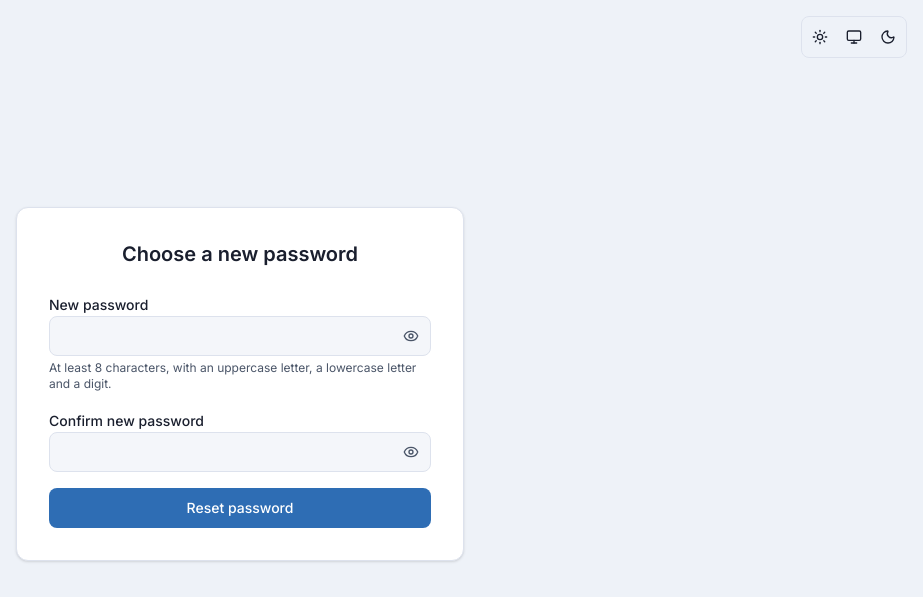
ResetPasswordPage (FR-BB115 AC-7) › blocks submit and shows an error when passwords do not match
This screenshot has width=923, height=597.
Type "Str0ngPass" into the password field labelled "New password" at (240, 336), box [49, 316, 431, 356]
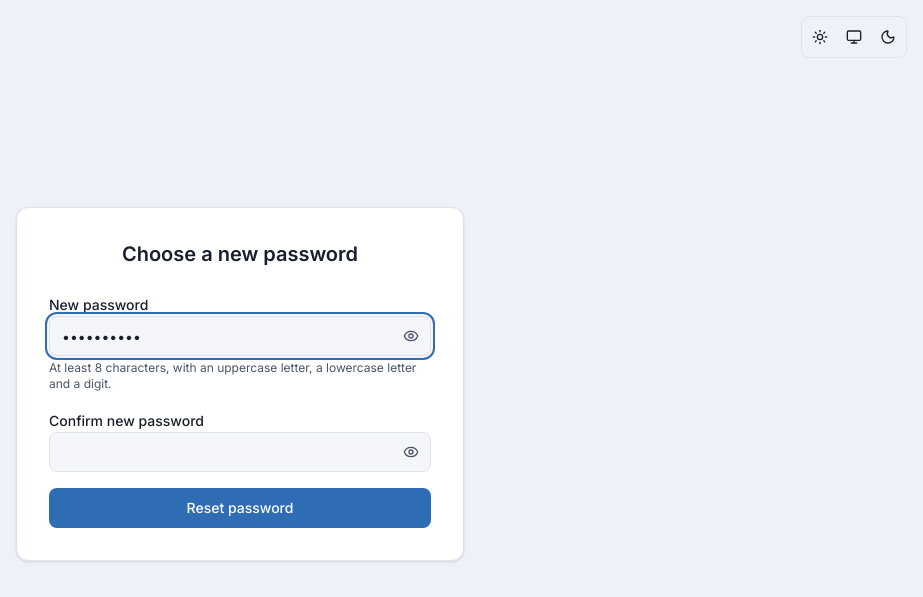
Type "Different1" into the password field labelled "Confirm new password" at (240, 452), box [49, 432, 431, 472]
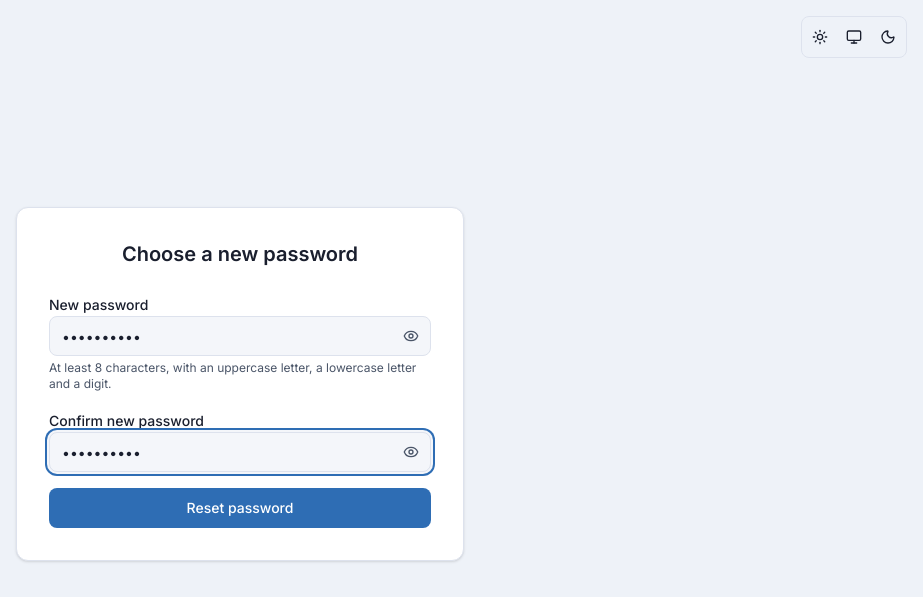
Click the button "Reset password" at (240, 508), box [49, 488, 431, 528]
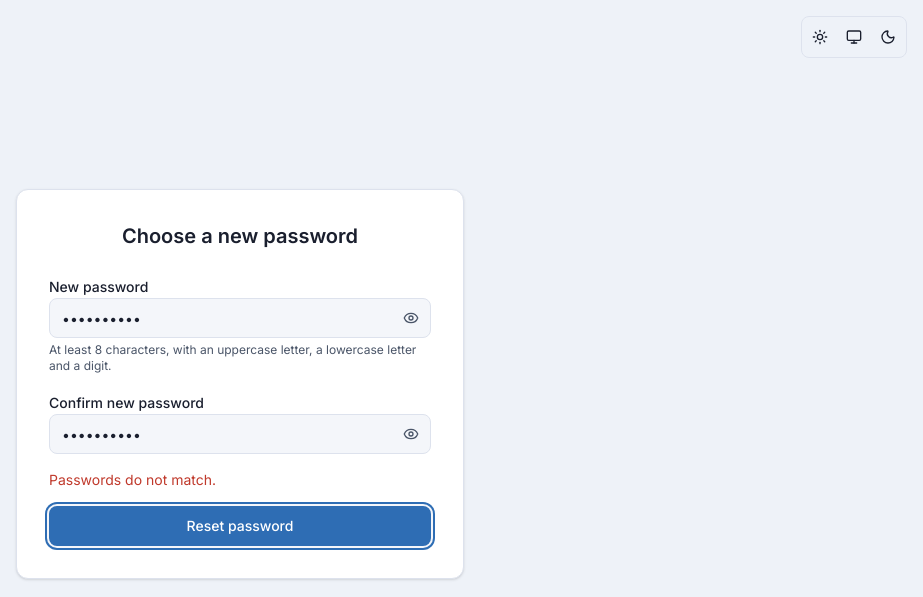
Now the message shows "do not match", box [49, 471, 216, 488]
